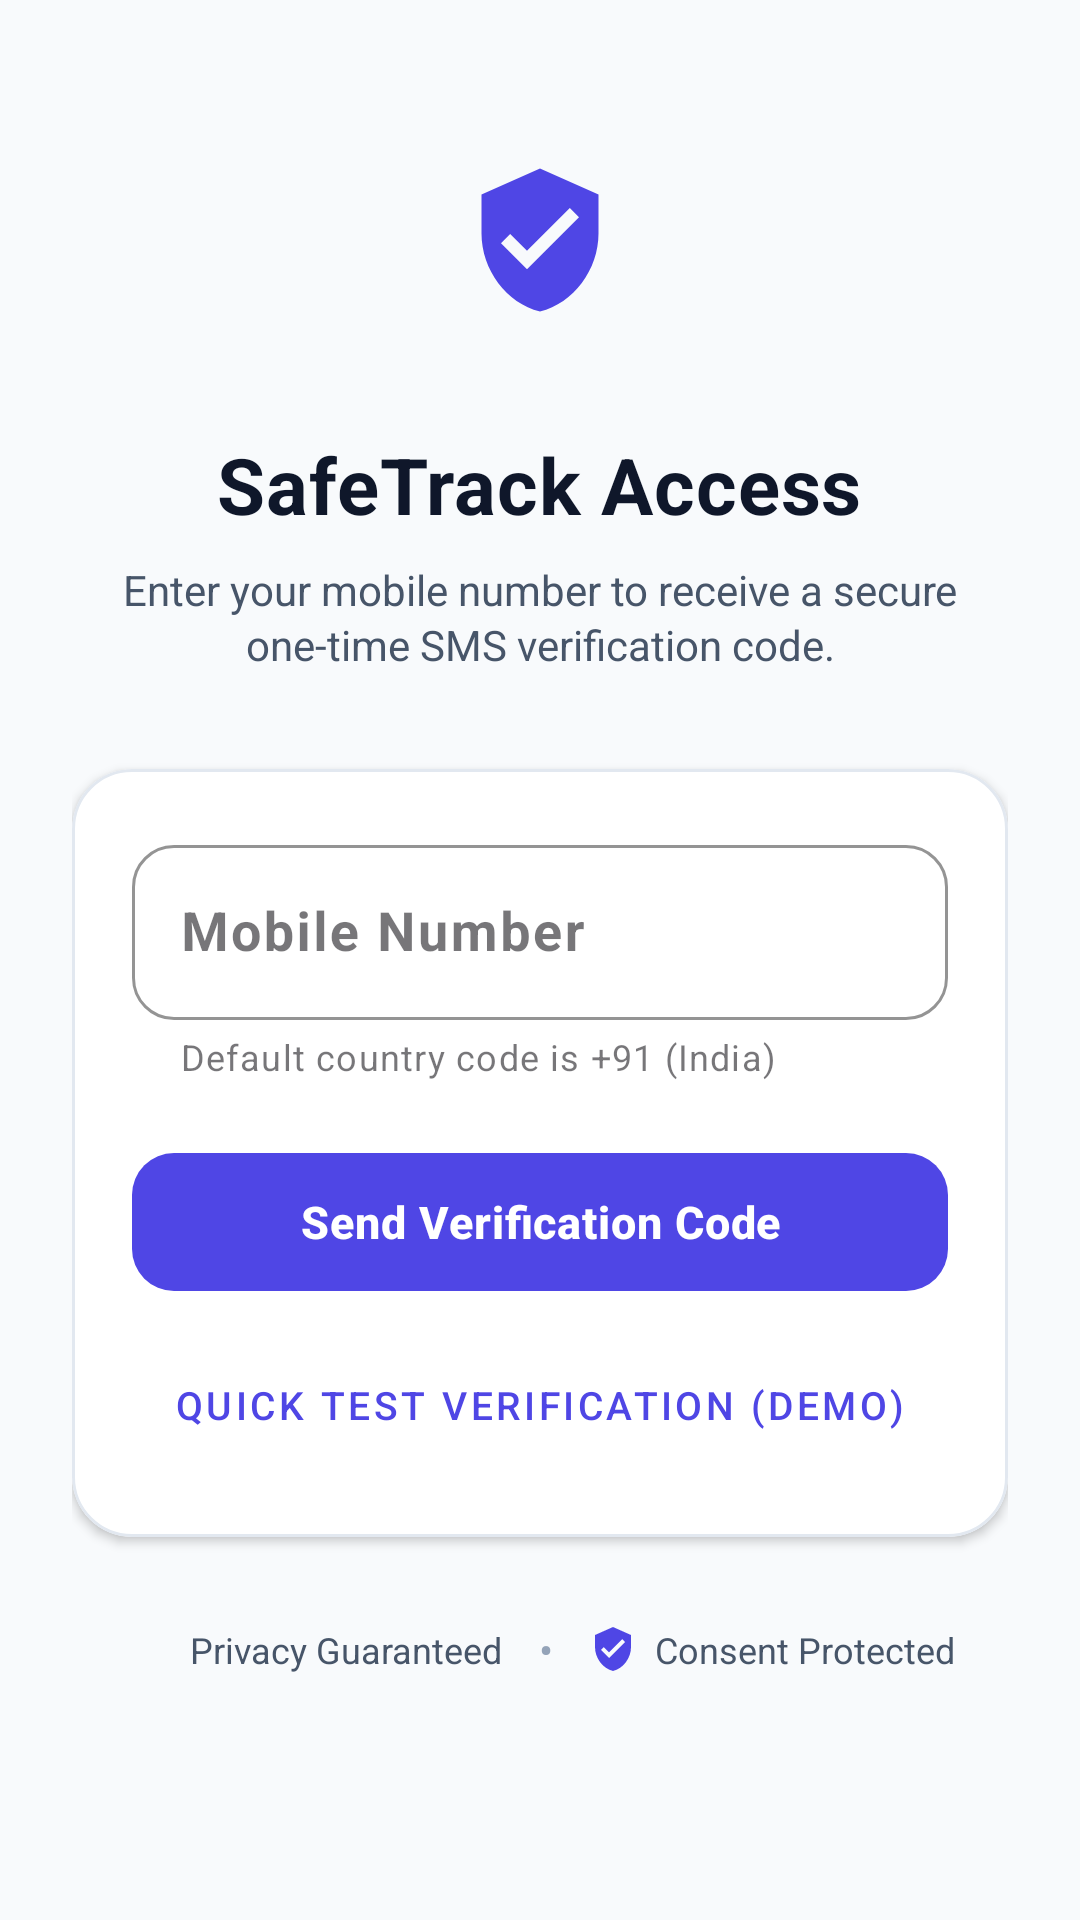

Icon click points for this 1080px x 1920px phone screenshot, format (x=x, y=y):
shield check: (x=540, y=240), (x=613, y=1649)
